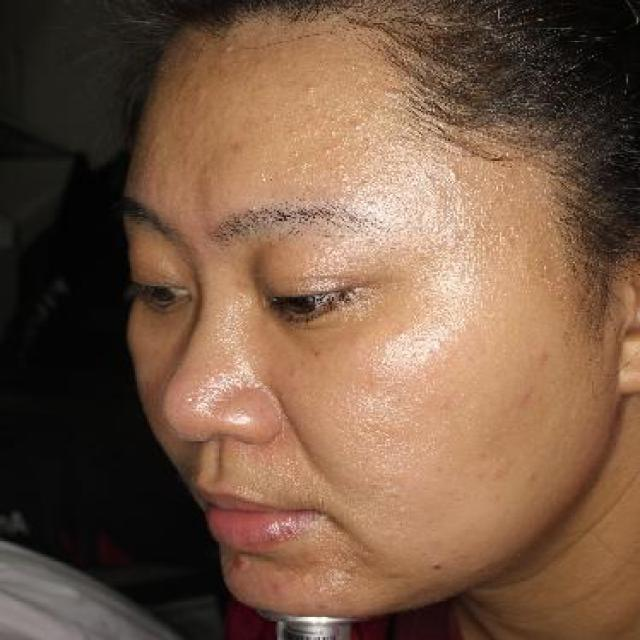acne: (294, 74, 332, 102), (442, 158, 472, 188), (421, 557, 455, 580)
